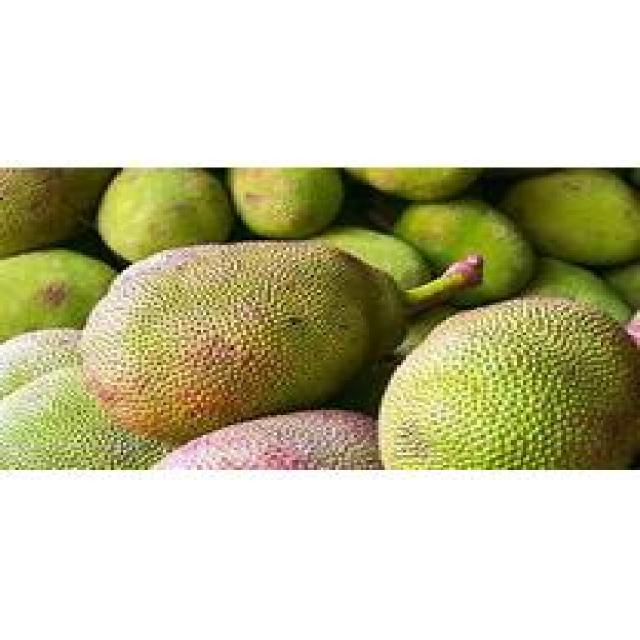Fruit: (3, 222, 425, 460), (363, 278, 640, 470)
